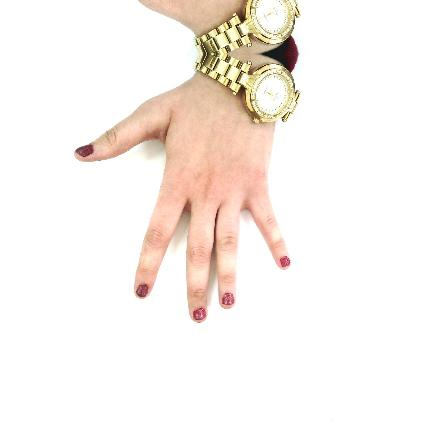Nail: (136, 283, 151, 299), (76, 144, 93, 157), (193, 308, 206, 322), (222, 292, 235, 306), (280, 256, 291, 267)
